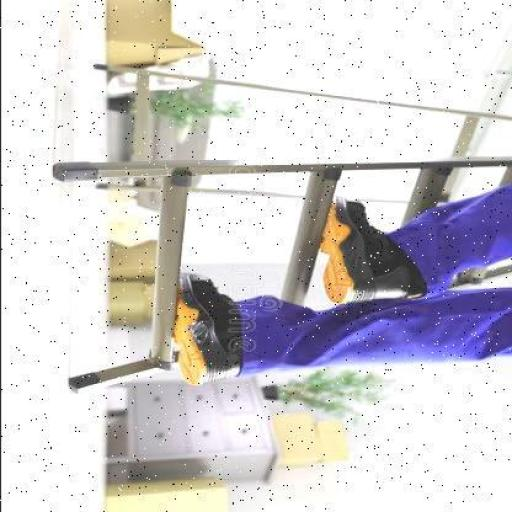safety_shoe: (308, 189, 401, 301), (170, 272, 246, 384)
